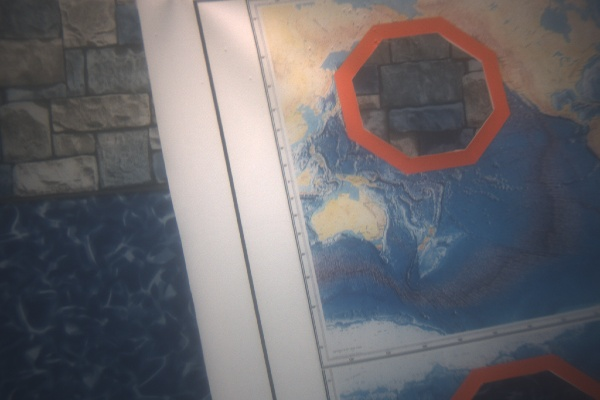torpille: (176, 183, 338, 353)
